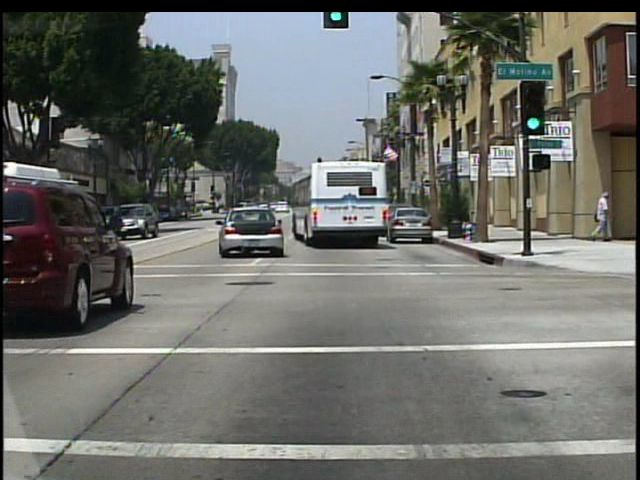person: (591, 192, 614, 244)
